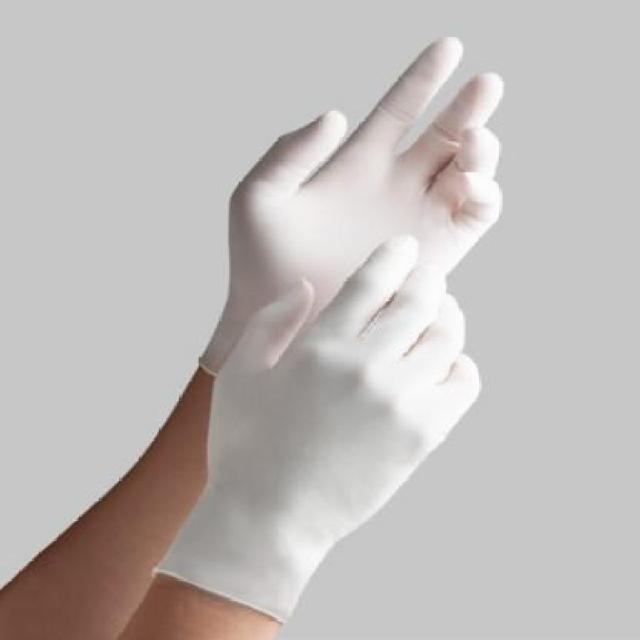glove: (129, 33, 503, 616)
